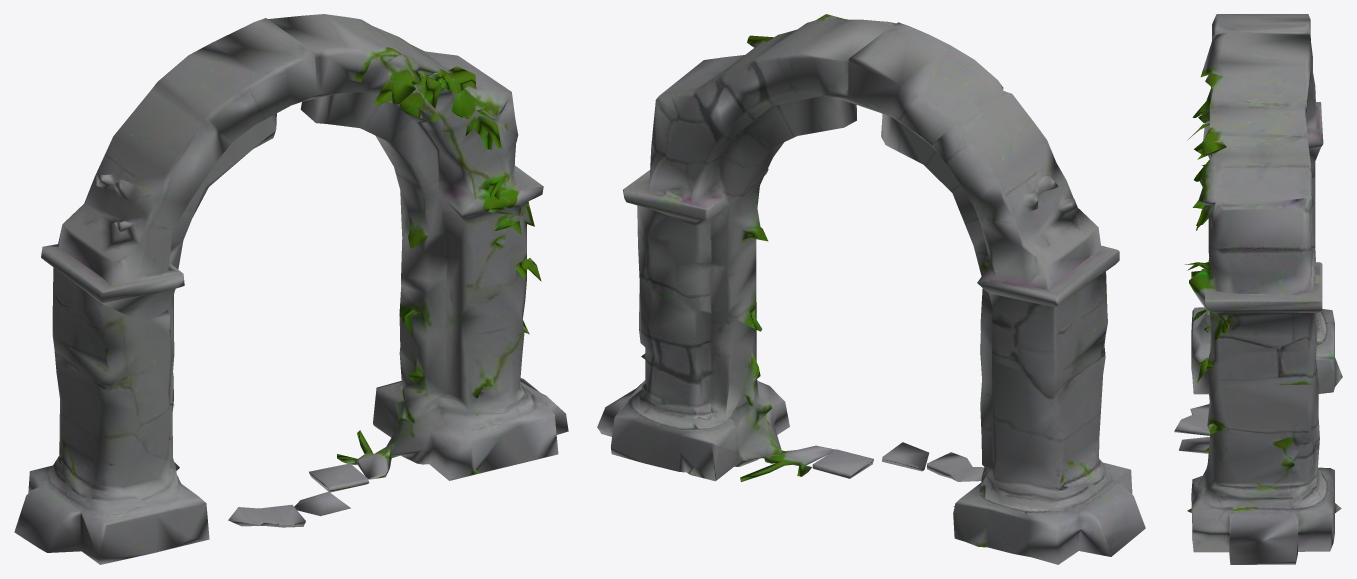
Rendered from ruined_arch.glb.
The picture shows the model from 3 angles, left to right: view 1: azimuth 30°, elevation 25°; view 2: azimuth 150°, elevation 25°; view 3: azimuth 270°, elevation 25°; orthographic projection. The views are drawn at different scales.
Parts seen in each view (by area): view 1: 0; view 2: 0; view 3: 0.
Part boxes in pixels (x1,y1,x2,y2): 0: [14, 14, 568, 564]; 0: [597, 14, 1145, 564]; 0: [1174, 14, 1342, 564].
Size of the model in its own units: 1.91 by 1.57 by 0.5752.
Materials: 1 (1 with a texture image).
